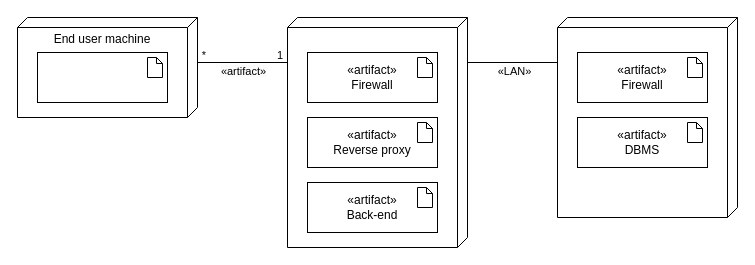
The diagram is 755 pixels wide and 265 high, and some of its shapes have lost their labels. Here are the shapes that lost their labels. From the top down, the box of each, then its label:
(36, 52, 168, 102): «artifact» Web application
(286, 16, 468, 248): Web server
(556, 16, 738, 218): Database server
